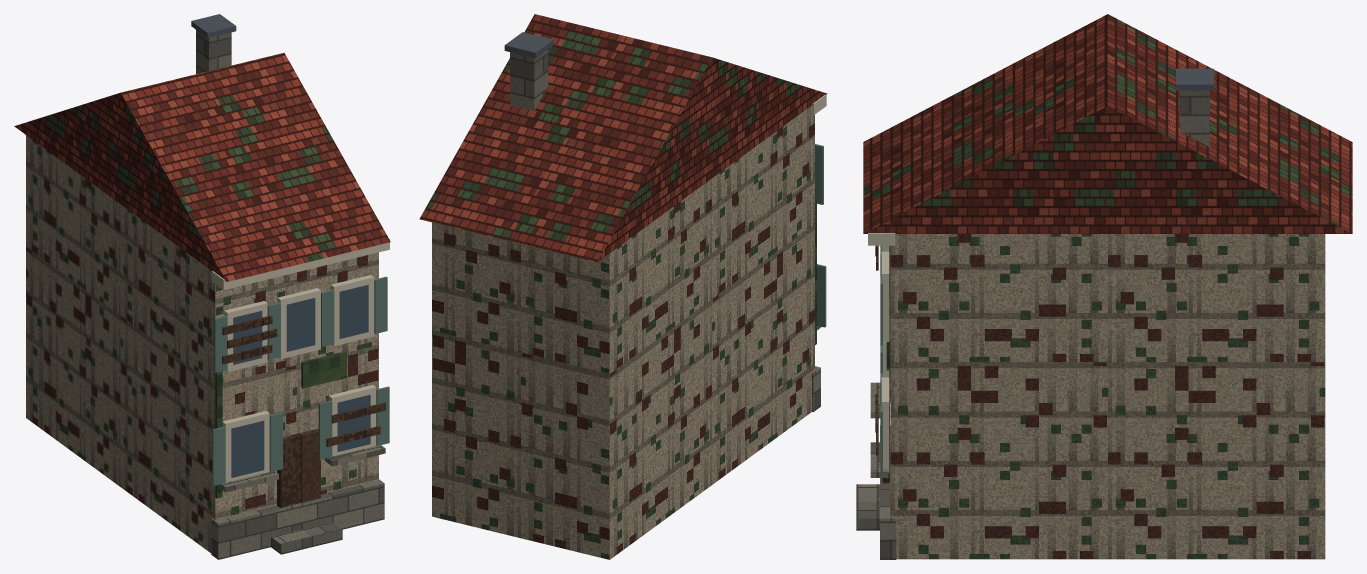
The model's file is ENV_C_Facade_1.fbx.
The picture shows the model from 3 angles, left to right: view 1: azimuth 30°, elevation 25°; view 2: azimuth 150°, elevation 25°; view 3: azimuth 270°, elevation 25°; orthographic projection. The views are drawn at different scales.
Visible parts, largest first — view 1: ENV_C_Facade_1; view 2: ENV_C_Facade_1; view 3: ENV_C_Facade_1.
Part boxes in pixels (x1,y1,x2,y2): ENV_C_Facade_1: [14, 14, 390, 559]; ENV_C_Facade_1: [419, 14, 827, 559]; ENV_C_Facade_1: [856, 14, 1352, 559].
Size of the model in its own units: 430 by 942 by 913.
Materials: 10 (6 with a texture image).
